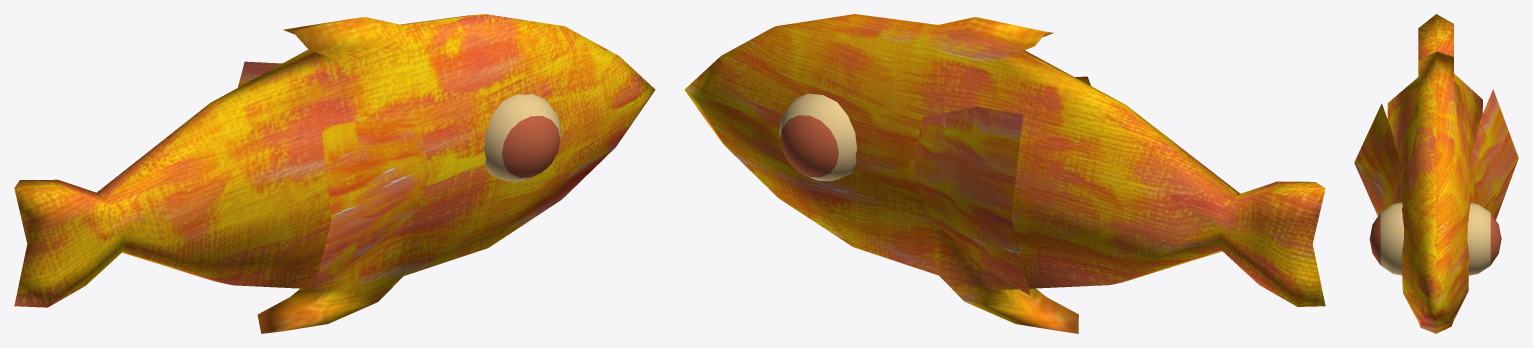
File: orangefish.fbx
The picture shows the model from 3 angles, left to right: view 1: azimuth 30°, elevation 25°; view 2: azimuth 150°, elevation 25°; view 3: azimuth 270°, elevation 25°; orthographic projection. The views are drawn at different scales.
Visible parts, largest first — view 1: Plane.003, Sphere.001; view 2: Plane.003, Sphere.001; view 3: Plane.003, Sphere.001.
Part boxes in pixels (x1,y1,x2,y2): Plane.003: (14, 14, 655, 333); Sphere.001: (484, 94, 561, 181); Plane.003: (684, 14, 1325, 333); Sphere.001: (779, 93, 856, 181); Plane.003: (1354, 14, 1518, 333); Sphere.001: (1369, 202, 1501, 275).
Bounding box in the file's own units: 1066 × 474 × 300.
Materials: 3 (1 with a texture image).
